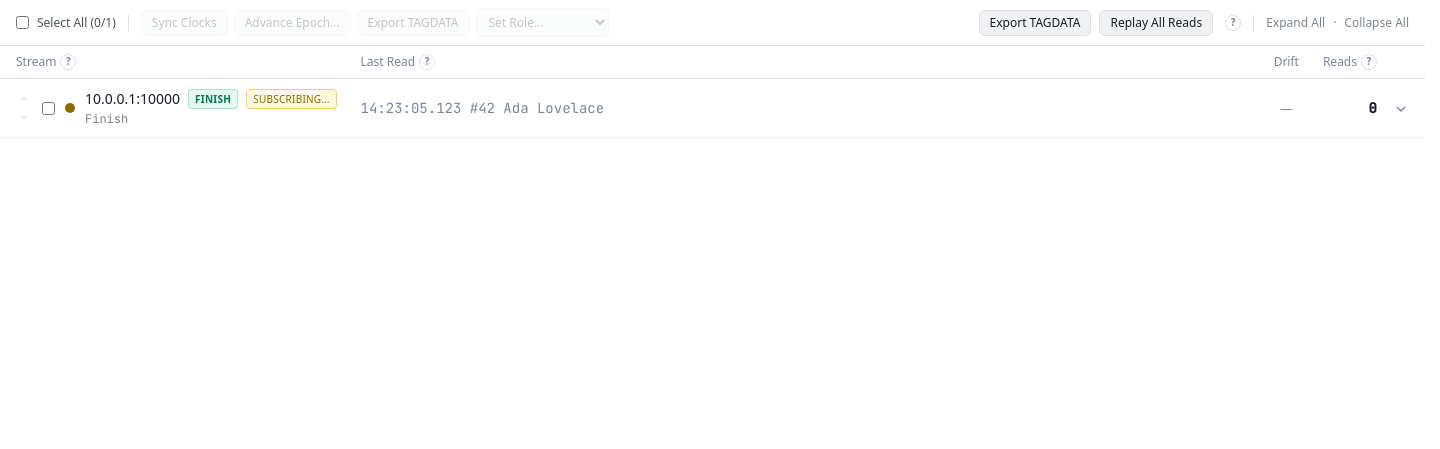
StreamsTab › shows metrics in expanded row when available
The width and height of the screenshot is (1440, 449).
# Click to expand the row
Step 1. Click the button "10.0.0.1:10000" → (133, 99), box [0,78,1425,138]
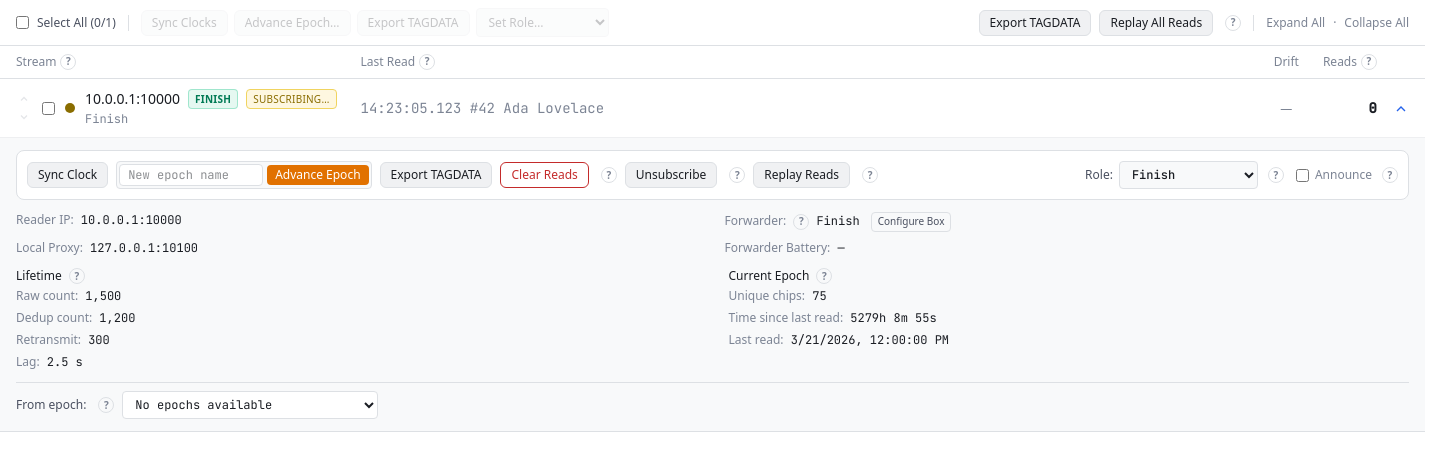
Now the text "1,500" is shown, box [85,288,121,304]
Now the text "1,200" is shown, box [99,310,135,326]
Now the text "300" is shown, box [88,332,110,348]
